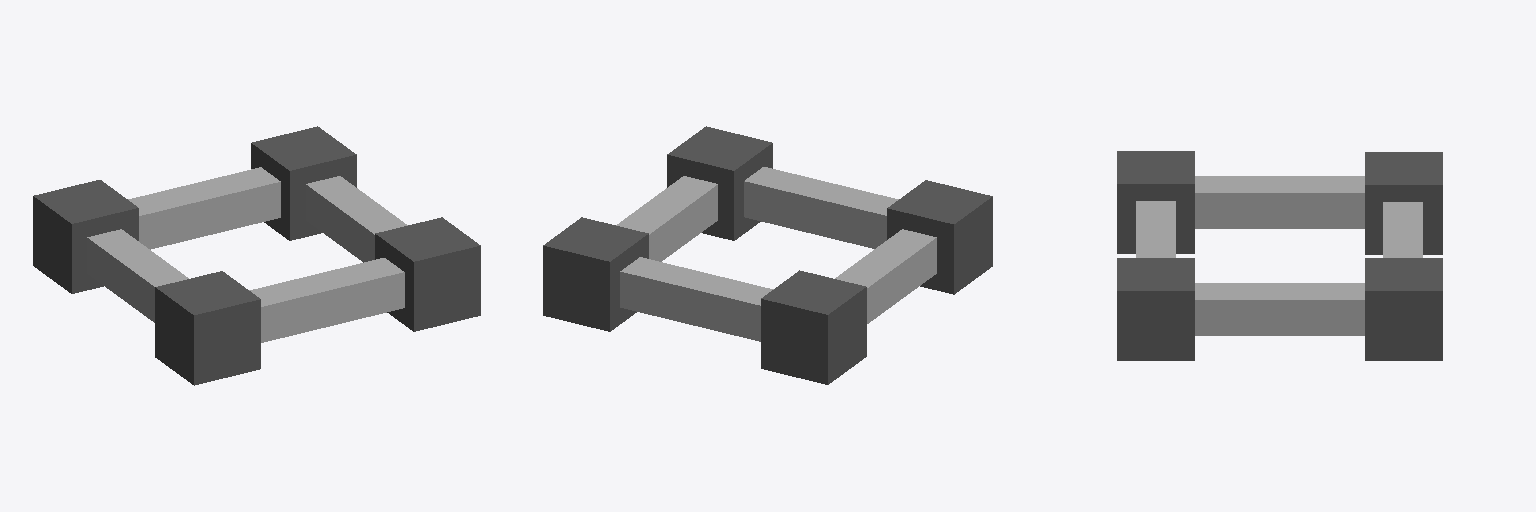
Rendered from pulsator.obj.
The picture shows the model from 3 angles: view 1: azimuth 30°, elevation 25°; view 2: azimuth 150°, elevation 25°; view 3: azimuth 270°, elevation 25°; orthographic projection.
Visible parts, largest first — view 1: Cube; view 2: Cube; view 3: Cube.
Boxes of the visible parts, box(x1,y1,x2,y2) form: Cube: box(33, 126, 480, 385); Cube: box(543, 126, 992, 384); Cube: box(1117, 151, 1442, 360).
Bounding box in the file's own units: 0.6649 × 0.1554 × 0.6538.